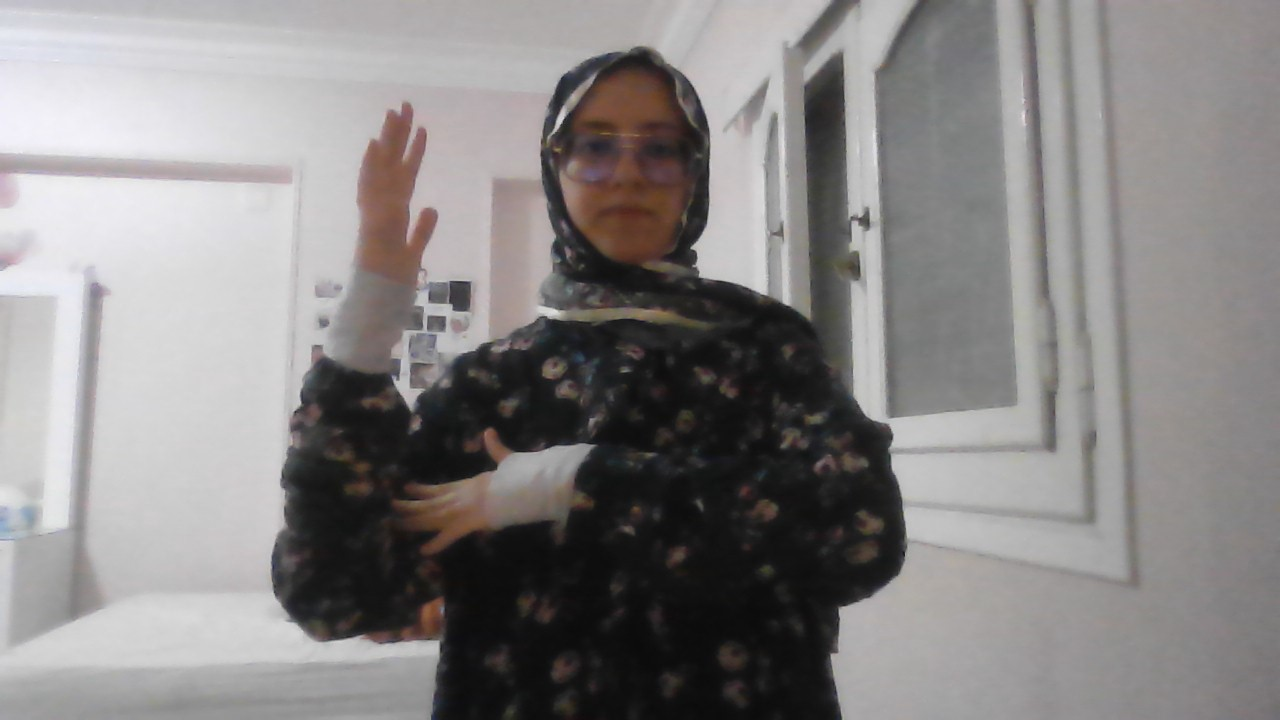morning: (340, 92, 528, 565)
